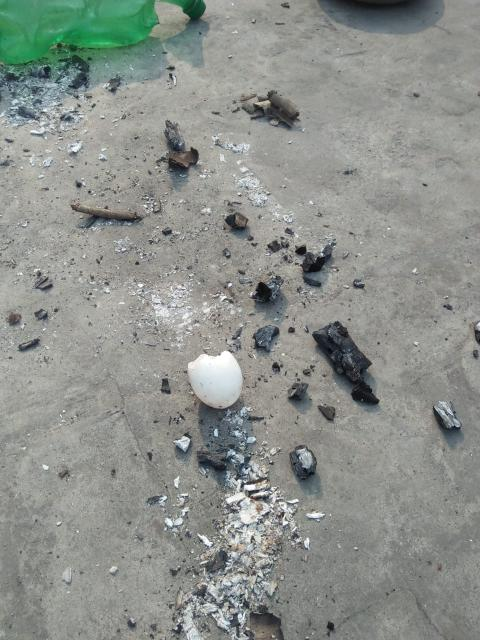Roto: (186, 350, 244, 410)
